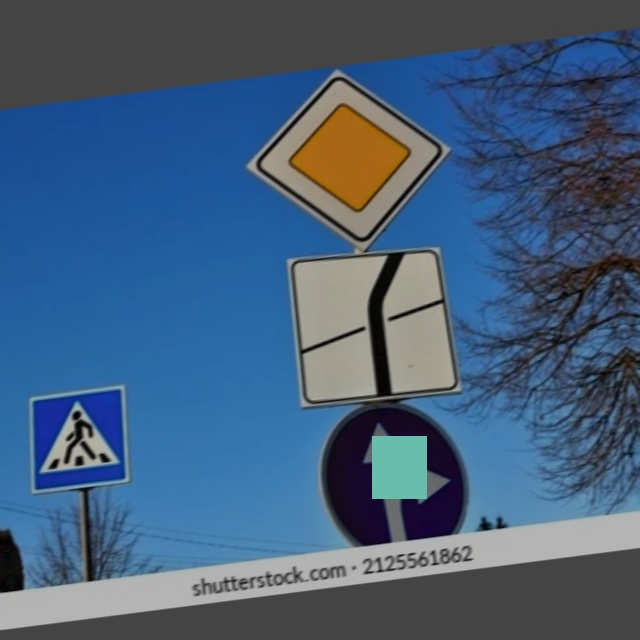Compulsory_Ahead_or_Turn_Right: (318, 398, 473, 548)
